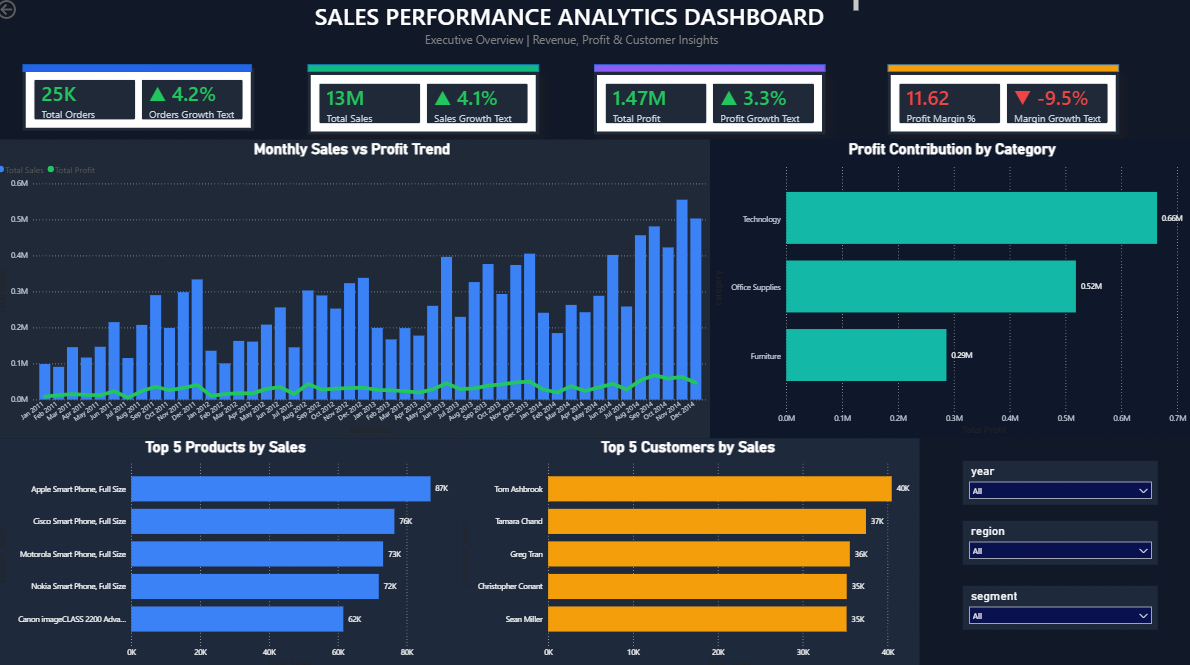

The page's visual inventory and layout, read from the dashboard file:
{"tool":"powerbi","page":{"name":"Page 1","canvas":[1920,1080],"ordinal":0},"visuals":[{"type":"textbox","box":[460.6,0,927.9,50.2],"z":0},{"type":"textbox","box":[574.5,50.2,700.1,48.6],"z":1000},{"type":"cardVisual","fields":{"Data":["SuperStoreOrders_PowerBI.Total Orders","SuperStoreOrders_PowerBI.Orders Growth Text"]},"box":[44,120,370,100],"z":2000},{"type":"cardVisual","fields":{"Data":["SuperStoreOrders_PowerBI.Profit Margin %","SuperStoreOrders_PowerBI.Margin Growth Text"]},"box":[1430,120,370,100],"z":3000},{"type":"cardVisual","fields":{"Data":["SuperStoreOrders_PowerBI.Total Profit","SuperStoreOrders_PowerBI.Profit Growth Text"]},"box":[960,120,370,100],"z":4000},{"type":"cardVisual","fields":{"Data":["SuperStoreOrders_PowerBI.Total Sales","SuperStoreOrders_PowerBI.Sales Growth Text"]},"box":[502,120,370,100],"z":5000},{"type":"shape","box":[46,108,366,12],"z":6000},{"type":"shape","box":[502,108,370,12],"z":7000},{"type":"shape","box":[960,108,370,12],"z":8000},{"type":"shape","box":[1430,108,370,12],"z":9000},{"type":"lineClusteredColumnComboChart","title":"Monthly Sales vs Profit Trend","fields":{"Category":["SuperStoreOrders_PowerBI.MonthYear"],"Y":["SuperStoreOrders_PowerBI.Total Sales"],"Y2":["SuperStoreOrders_PowerBI.Total Profit"]},"box":[0,228.5,1145.9,477.9],"z":9001},{"type":"clusteredBarChart","title":"Profit Contribution by Category","fields":{"Category":["SuperStoreOrders_PowerBI.category"],"Y":["SuperStoreOrders_PowerBI.Total Profit"]},"box":[1145.9,228.5,774.4,477.9],"z":9002},{"type":"clusteredBarChart","title":"Top 5 Products by Sales","fields":{"Category":["SuperStoreOrders_PowerBI.product_name"],"Y":["SuperStoreOrders_PowerBI.Total Sales"]},"box":[0,706,741,374.6],"z":9003},{"type":"clusteredBarChart","title":"Top 5 Customers by Sales","fields":{"Y":["SuperStoreOrders_PowerBI.Total Sales"],"Category":["SuperStoreOrders_PowerBI.customer_name"]},"box":[741,706,741,374.6],"z":9004},{"type":"slicer","fields":{"Values":["SuperStoreOrders_PowerBI.year"]},"box":[1550,742,312,70],"z":9005},{"type":"slicer","fields":{"Values":["SuperStoreOrders_PowerBI.region"]},"box":[1550,838,312,70],"z":9006},{"type":"slicer","fields":{"Values":["SuperStoreOrders_PowerBI.segment"]},"box":[1550,942,312,70],"z":9007},{"type":"actionButton","box":[0,0,100,40],"z":9009}]}

Visuals, with their boxes in screenshot pixels (x1, y1, x2, y2), scaled from the page's 1920x1080 canvas onto the 1190x665 screenshot:
textbox: locate(285, 0, 861, 31)
textbox: locate(356, 31, 790, 61)
cardVisual - SuperStoreOrders_PowerBI.Total Orders x SuperStoreOrders_PowerBI.Orders Growth Text: locate(27, 74, 257, 135)
cardVisual - SuperStoreOrders_PowerBI.Profit Margin % x SuperStoreOrders_PowerBI.Margin Growth Text: locate(886, 74, 1116, 135)
cardVisual - SuperStoreOrders_PowerBI.Total Profit x SuperStoreOrders_PowerBI.Profit Growth Text: locate(595, 74, 824, 135)
cardVisual - SuperStoreOrders_PowerBI.Total Sales x SuperStoreOrders_PowerBI.Sales Growth Text: locate(311, 74, 540, 135)
shape: locate(29, 66, 255, 74)
shape: locate(311, 66, 540, 74)
shape: locate(595, 66, 824, 74)
shape: locate(886, 66, 1116, 74)
"Monthly Sales vs Profit Trend" lineClusteredColumnComboChart: locate(0, 141, 710, 435)
"Profit Contribution by Category" clusteredBarChart: locate(710, 141, 1189, 435)
"Top 5 Products by Sales" clusteredBarChart: locate(0, 435, 459, 664)
"Top 5 Customers by Sales" clusteredBarChart: locate(459, 435, 919, 664)
slicer - SuperStoreOrders_PowerBI.year: locate(961, 457, 1154, 500)
slicer - SuperStoreOrders_PowerBI.region: locate(961, 516, 1154, 559)
slicer - SuperStoreOrders_PowerBI.segment: locate(961, 580, 1154, 623)
actionButton: locate(0, 0, 62, 25)
